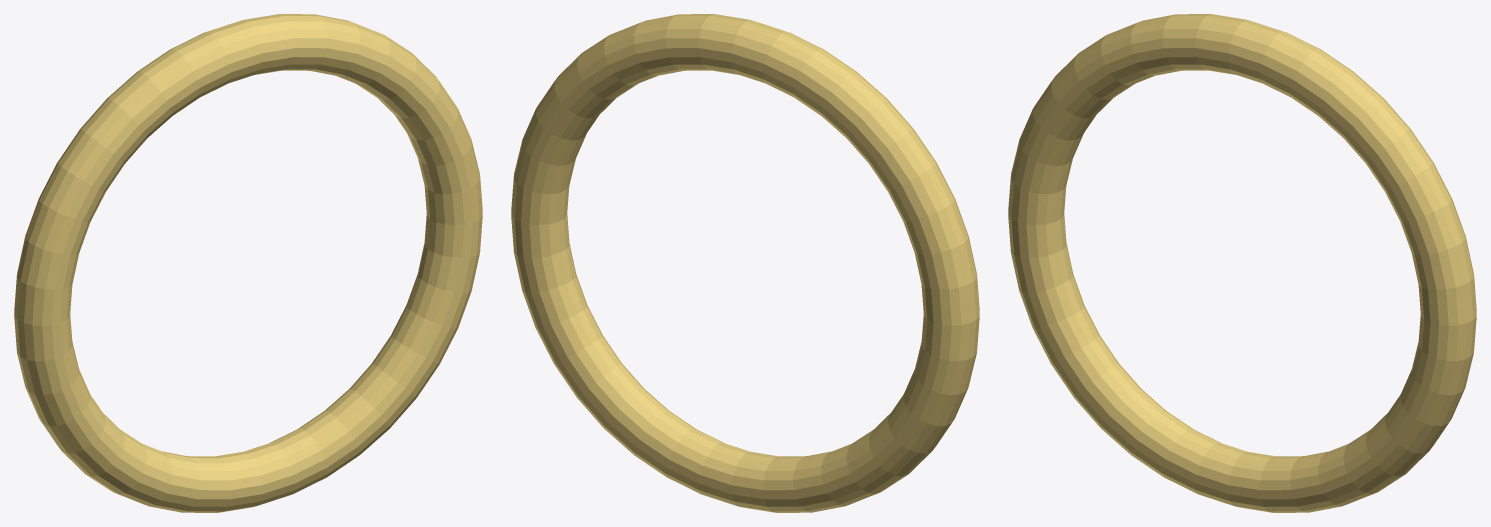
The model's file is gold-ring.glb.
3 views of the same model, side by side, from view 1: azimuth 30°, elevation 25°; view 2: azimuth 150°, elevation 25°; view 3: azimuth 330°, elevation 25° (orthographic).
Parts seen in each view (by area): view 1: gold-ring; view 2: gold-ring; view 3: gold-ring.
Part boxes in pixels (bbox=[...]): gold-ring: bbox=[14, 14, 482, 512]; gold-ring: bbox=[511, 14, 979, 512]; gold-ring: bbox=[1008, 14, 1476, 512].
Bounding box in the file's own units: 21.6 × 21.6 × 2.27.
